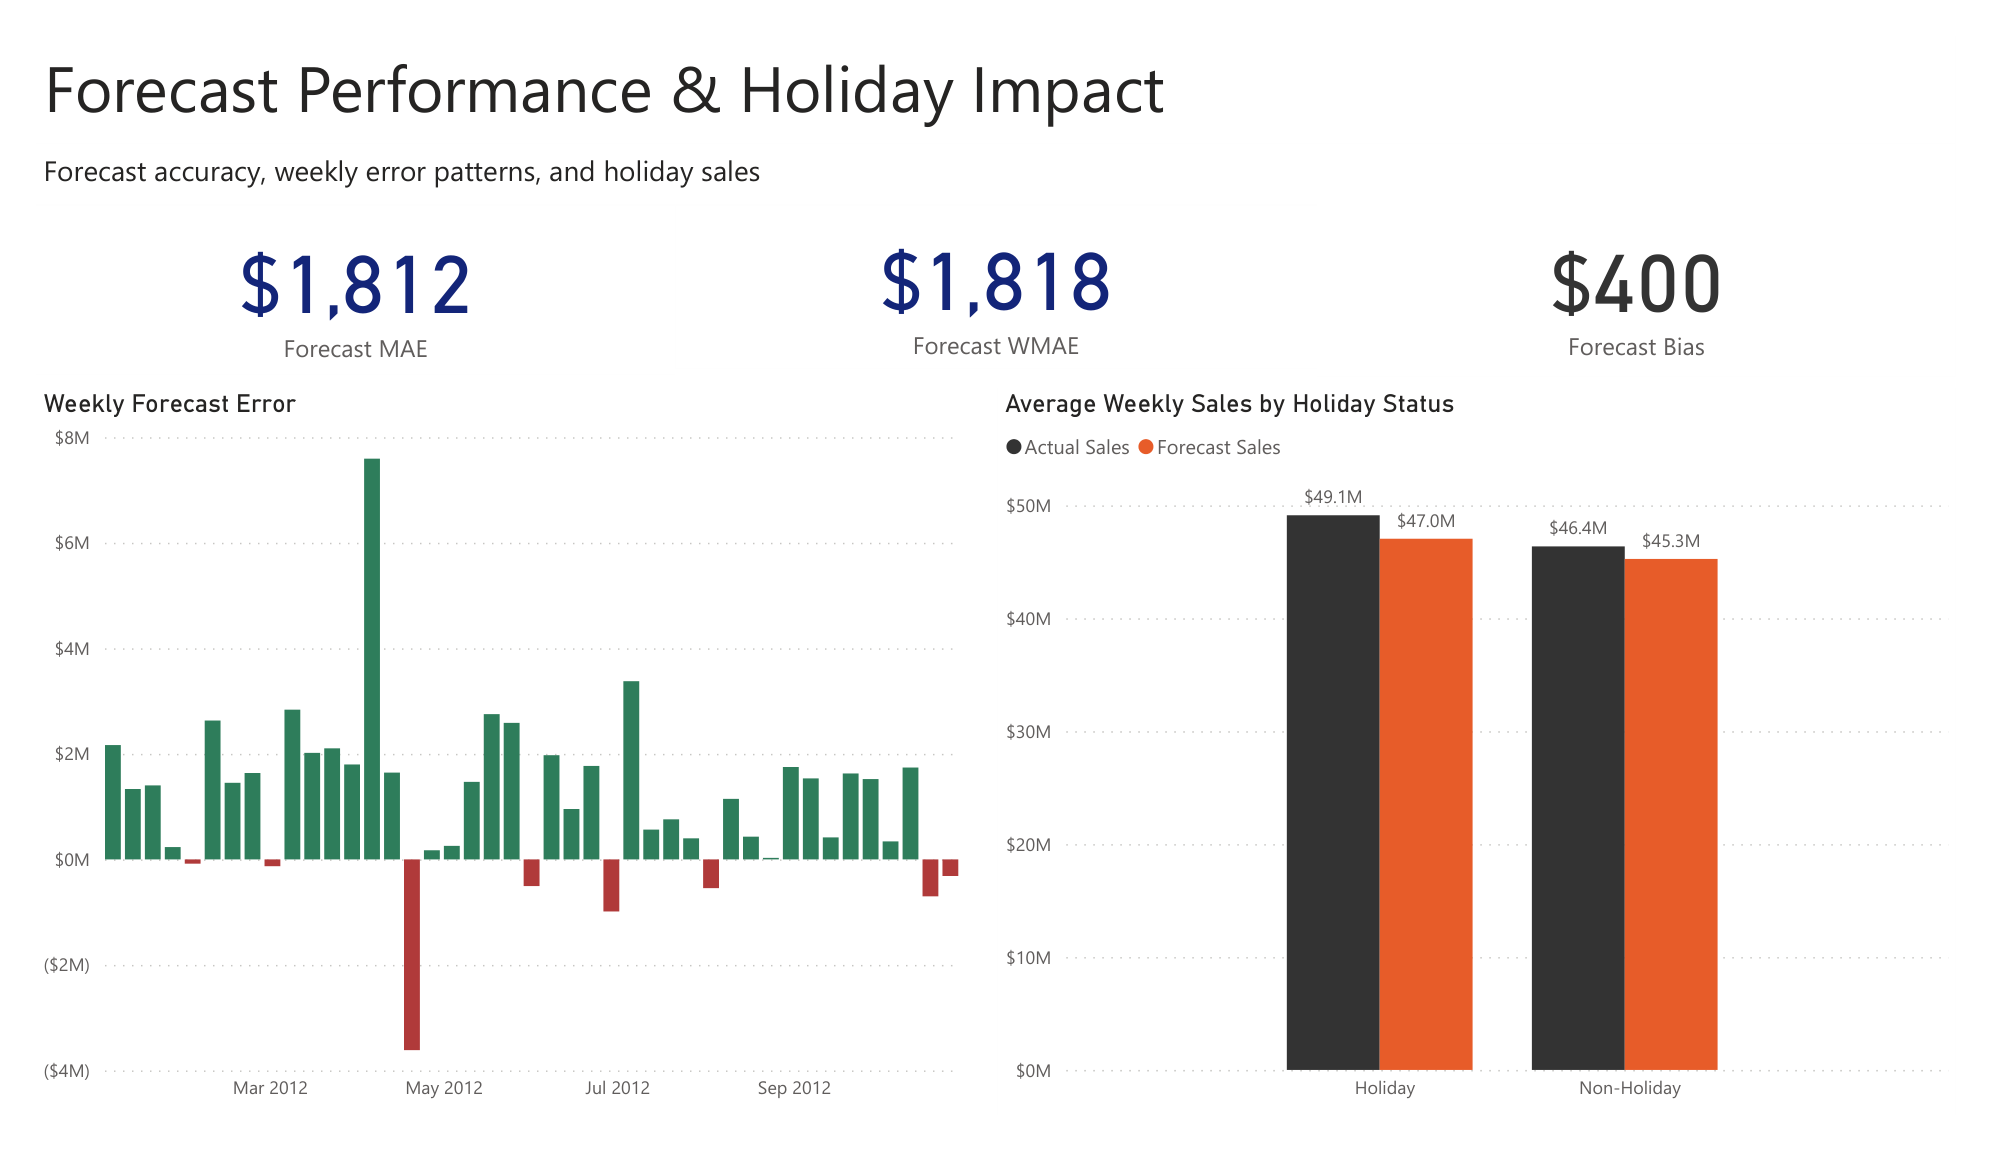

The dashboard page shown, as its layout file describes it:
{"tool":"powerbi","page":{"name":"Forecast Performance & Holiday Impact","canvas":[1280,720],"ordinal":2},"visuals":[{"type":"textbox","box":[0,0,1280,60.9],"z":0},{"type":"textbox","box":[0,0,1280,72],"z":1000},{"type":"textbox","box":[0,71.6,1280,41.2],"z":2000},{"type":"card","fields":{"Values":["fact_weekly_sales.Forecast MAE"]},"box":[0,112.2,426.1,112.8],"z":3000},{"type":"card","fields":{"Values":["fact_weekly_sales.Forecast WMAE"]},"box":[426.1,112.9,427.9,109.2],"z":4000},{"type":"card","fields":{"Values":["fact_weekly_sales.Forecast Bias"]},"box":[853.9,109.2,426.1,118.2],"z":5000},{"type":"clusteredColumnChart","title":"Weekly Forecast Error","fields":{"Category":["dim_date.Date"],"Y":["fact_weekly_sales.Forecast Error"]},"box":[0,234.5,640.9,485.1],"z":5001},{"type":"clusteredColumnChart","title":"Average Weekly Sales by Holiday Status","fields":{"Category":["fact_weekly_sales.Holiday Type"],"Y":["fact_weekly_sales.Average Weekly Actual Sales","fact_weekly_sales.Average Weekly Forecast Sales"]},"box":[640.9,234.5,639.1,485.1],"z":5002}]}

Visuals, with their boxes in screenshot pixels (x1, y1, x2, y2), scaled from the page's 1280x720 canvas onto the 1992x1152 screenshot:
textbox: Rect(0, 0, 1991, 97)
textbox: Rect(0, 0, 1991, 115)
textbox: Rect(0, 115, 1991, 180)
card - fact_weekly_sales.Forecast MAE: Rect(0, 180, 663, 360)
card - fact_weekly_sales.Forecast WMAE: Rect(663, 181, 1329, 355)
card - fact_weekly_sales.Forecast Bias: Rect(1329, 175, 1991, 364)
"Weekly Forecast Error" clusteredColumnChart: Rect(0, 375, 997, 1151)
"Average Weekly Sales by Holiday Status" clusteredColumnChart: Rect(997, 375, 1991, 1151)
